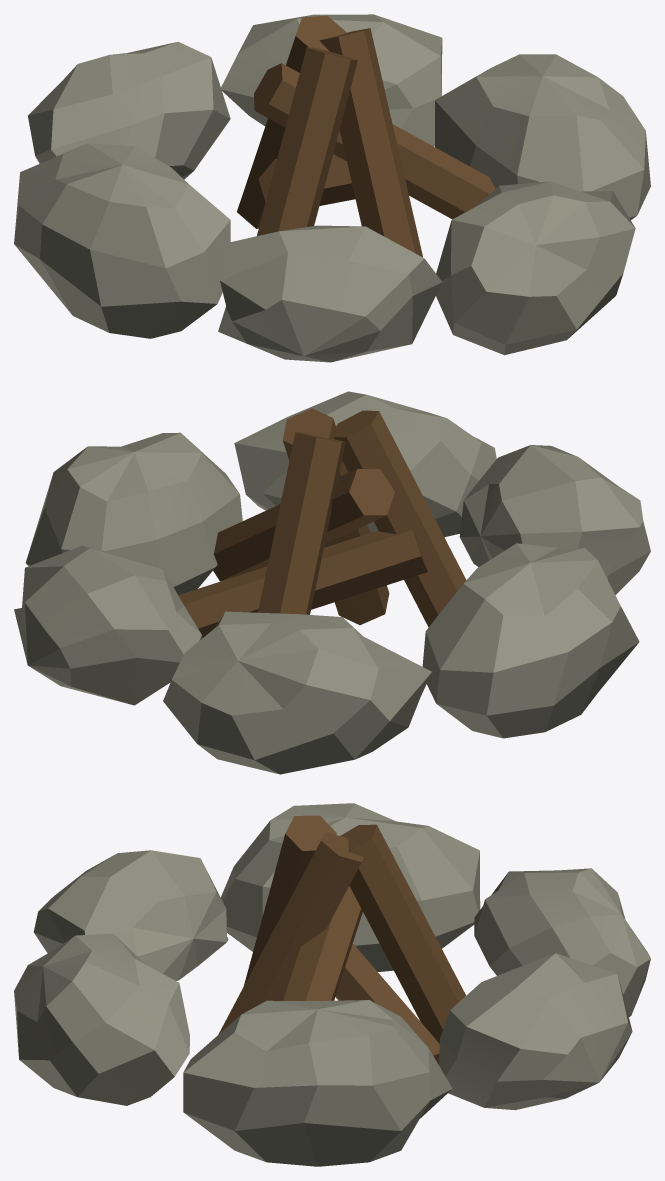
File: FirePlace.fbx
3 renders of one model, top to bottom at view 1: azimuth 30°, elevation 25°; view 2: azimuth 150°, elevation 25°; view 3: azimuth 270°, elevation 25°, orthographic. The views are drawn at different scales.
Parts seen in each view (by area): view 1: FirePlace; view 2: FirePlace; view 3: FirePlace.
Part boxes in pixels (box(x1,y1,x2,y2)): FirePlace: box(14, 14, 650, 362); FirePlace: box(14, 391, 650, 774); FirePlace: box(14, 803, 650, 1166).
Size of the model in its own units: 70.09 by 28.77 by 70.49.
